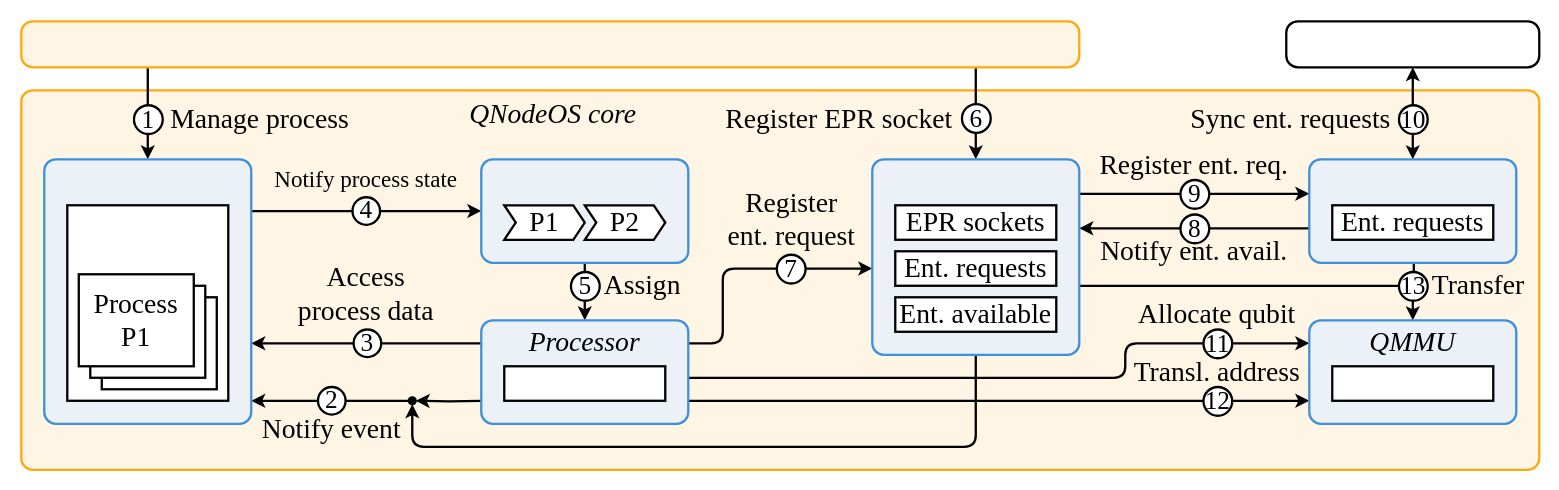
The diagram is 1559 pixels wide and 490 high, and some of its shapes have lost their labels. Here are the shapes that lost their labels. From the top down, the box of each, then its label:
(20, 20, 1080, 68): QNodeOS API handler
(1285, 20, 1540, 68): QNodeOS peers
(480, 158, 689, 263): Scheduler
(1308, 158, 1517, 263): QNetStack
(871, 158, 1080, 355): EMU
(43, 158, 252, 424): ProcMgr
(66, 204, 229, 401): Process database
(503, 365, 666, 401): Process data
(1331, 365, 1494, 401): Qubit map
